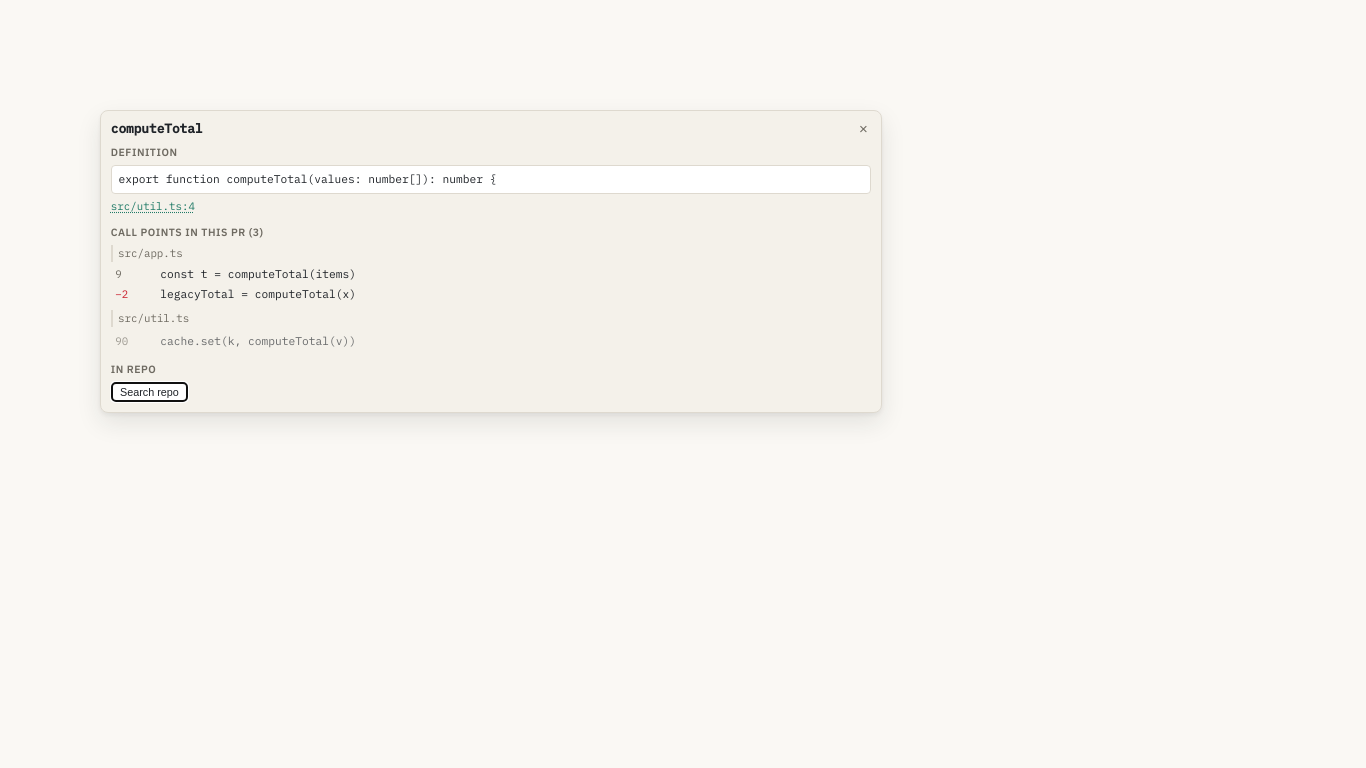
it: SymbolPopover — In repo section › parks focus on the dialog when the search starts (the unmounting button must not self-close the popover)
Click the button "Search repo" at coordinates (149, 392), box [111, 382, 188, 402]
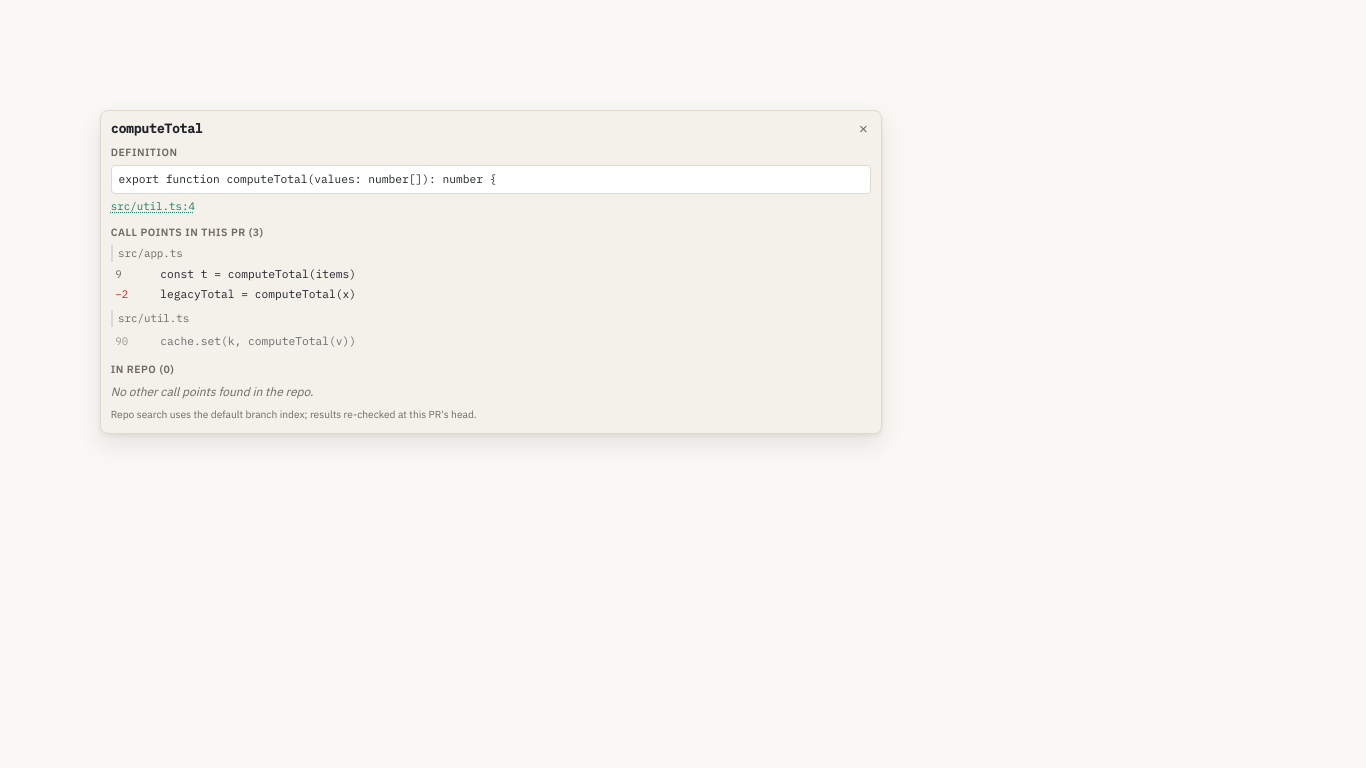
Result: the heading "In repo (0)" is shown at [111, 362, 174, 376]
